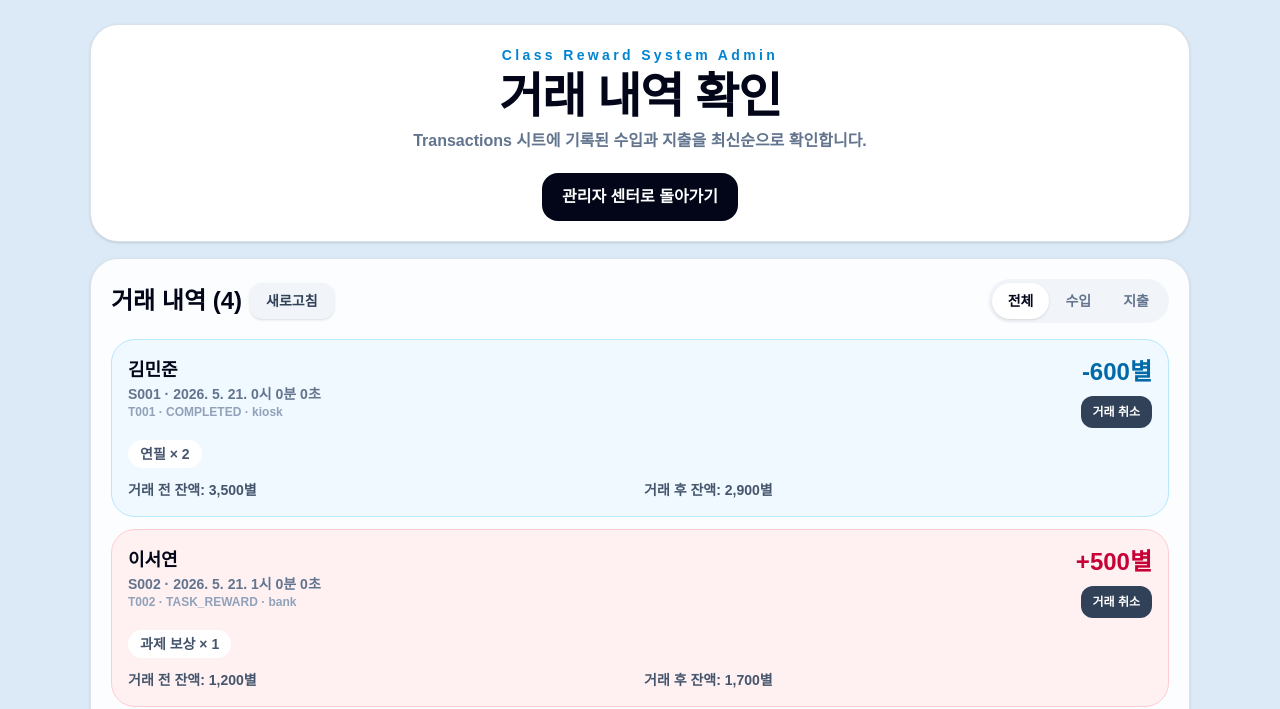
Scenario: TransactionsPage › rejects a lone transaction response, retains its operation ID, and applies a later full pair
Click the button with aria-label "T001 거래 취소" at (1116, 412), box [1080, 396, 1152, 428]
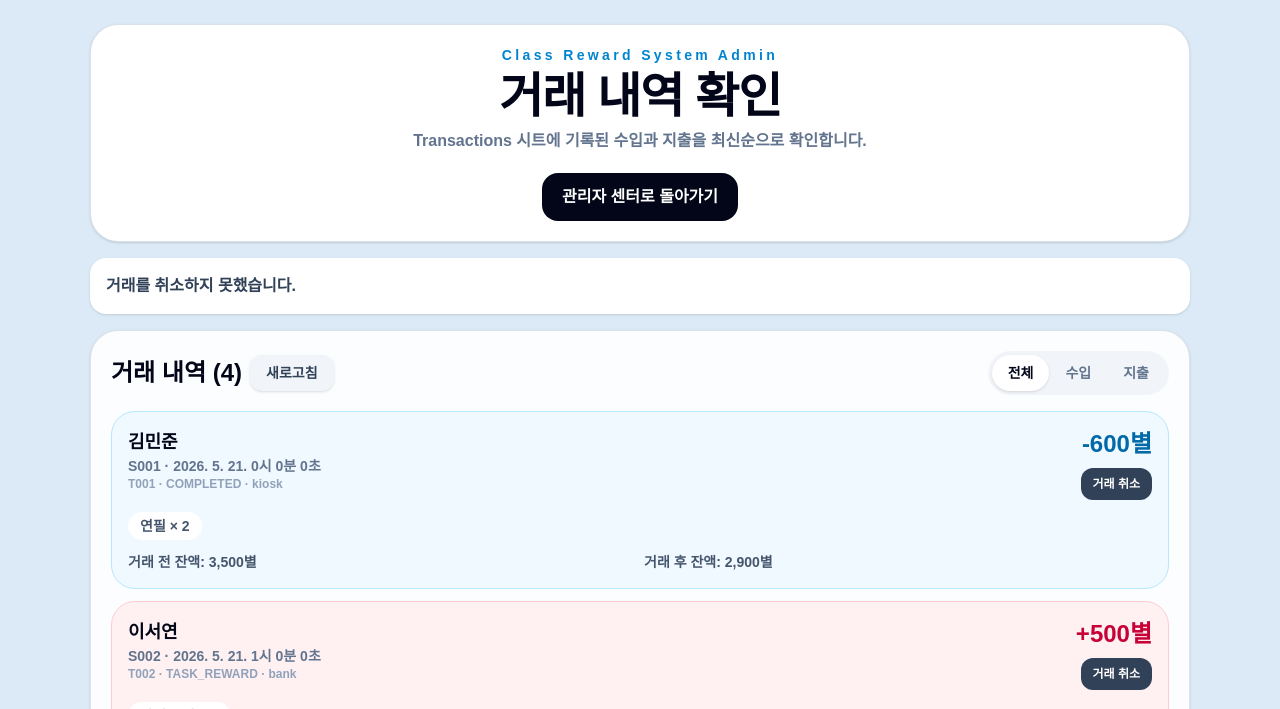
Expected: the text "거래를 취소하지 못했습니다." is shown, [90, 258, 1190, 314]
Click the button with aria-label "T001 거래 취소" at (1116, 484), box [1080, 468, 1152, 500]
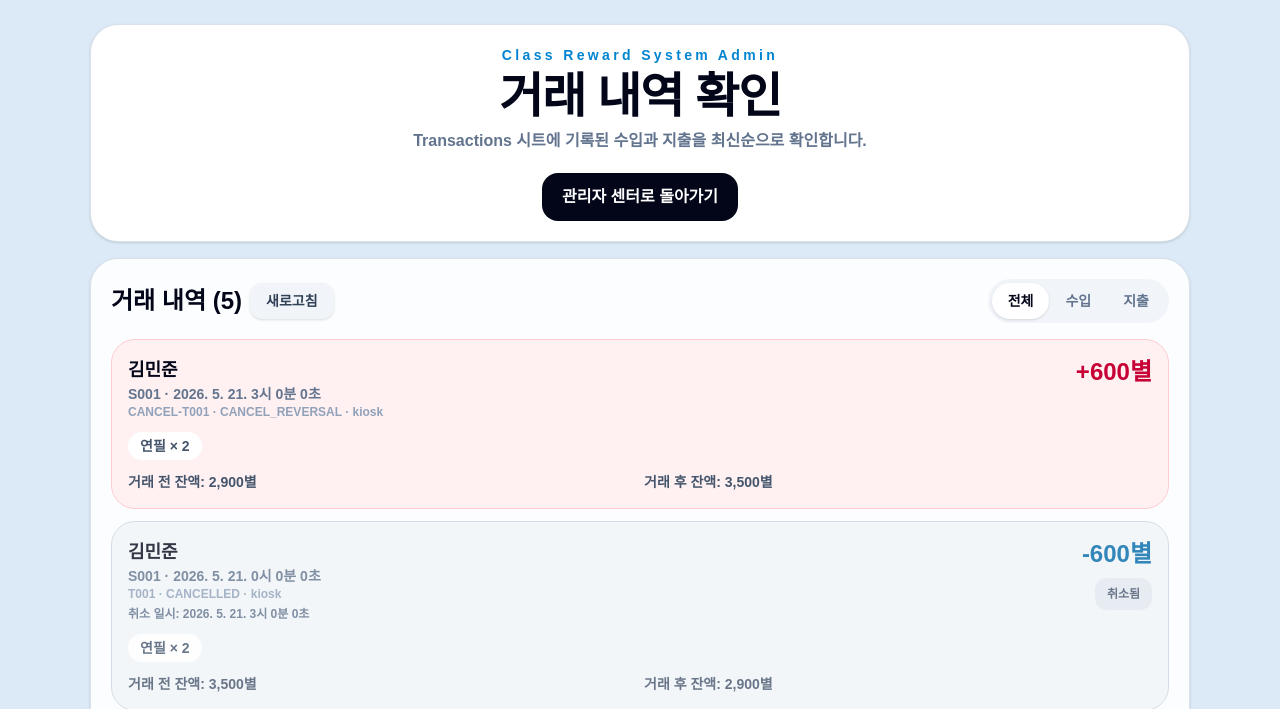
Expected: the element with test id "transaction-row-CANCEL-T001" is shown, [111, 339, 1169, 509]
Expected: the text "취소됨" is shown, [1095, 578, 1152, 610]
